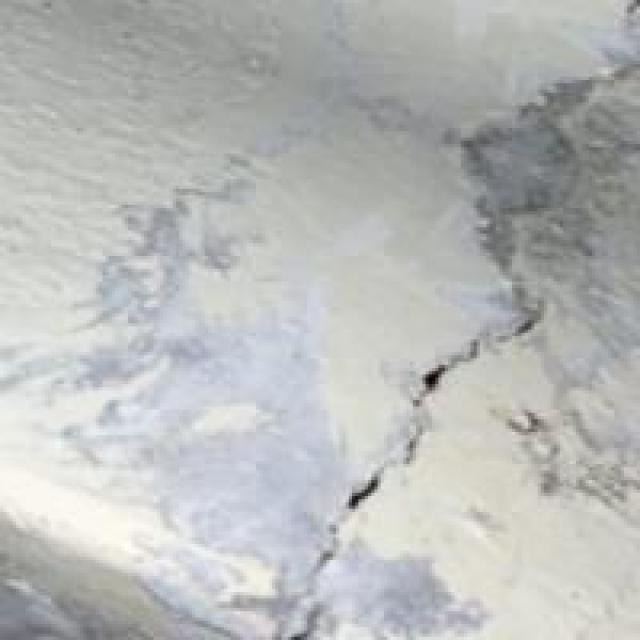Crack: (285, 295, 615, 628)
